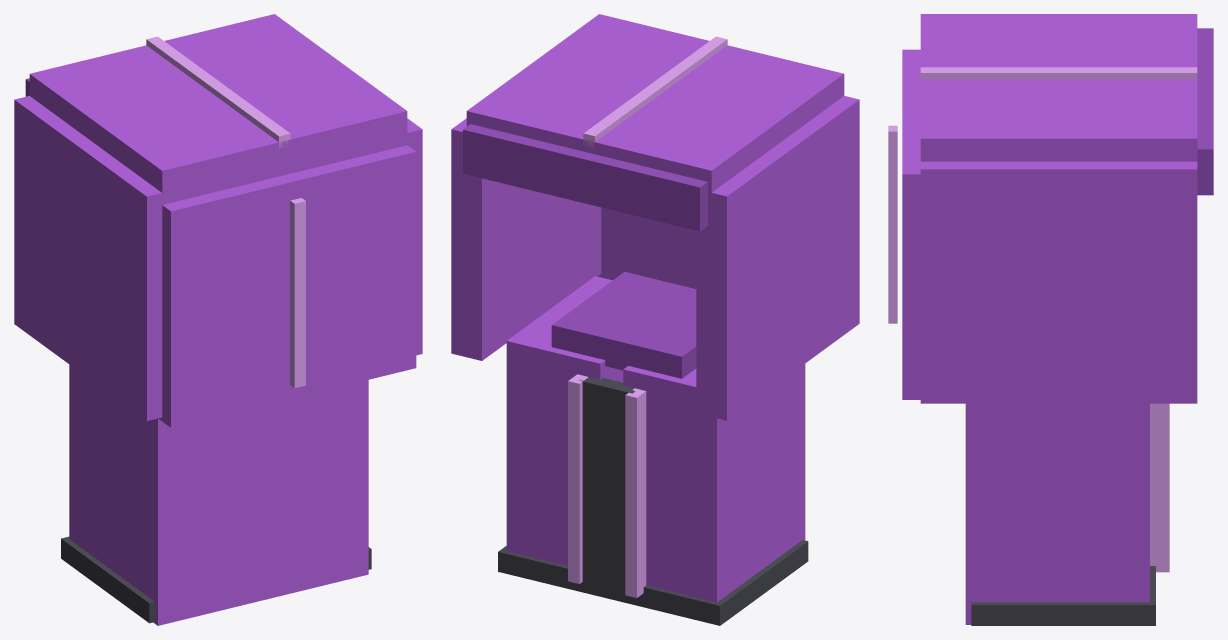
File: dj_tronco.glb
3 renders of one model, left to right at view 1: azimuth 30°, elevation 25°; view 2: azimuth 150°, elevation 25°; view 3: azimuth 270°, elevation 25°, orthographic. The views are drawn at different scales.
Visible parts, largest first — view 1: dj_tronco; view 2: dj_tronco; view 3: dj_tronco.
Boxes of the visible parts, x1,y1,x2,y2 form: dj_tronco: (14, 14, 422, 625); dj_tronco: (451, 14, 859, 625); dj_tronco: (888, 14, 1213, 625).
Bounding box in the file's own units: 0.72 × 1.2 × 0.705.
